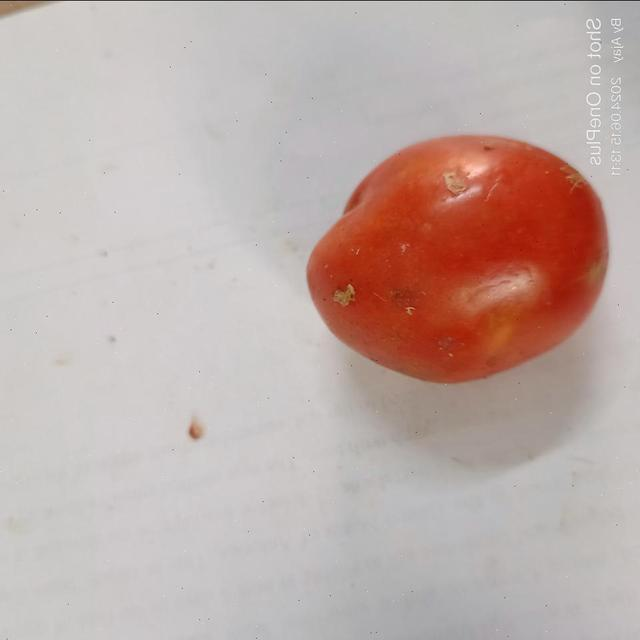Bacterial Spot Fruit: (220, 188, 242, 208)
